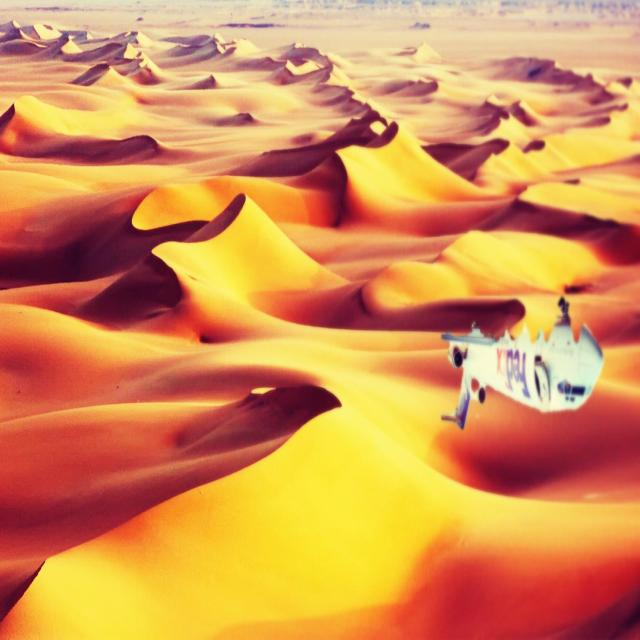airplane: (440, 295, 604, 430)
